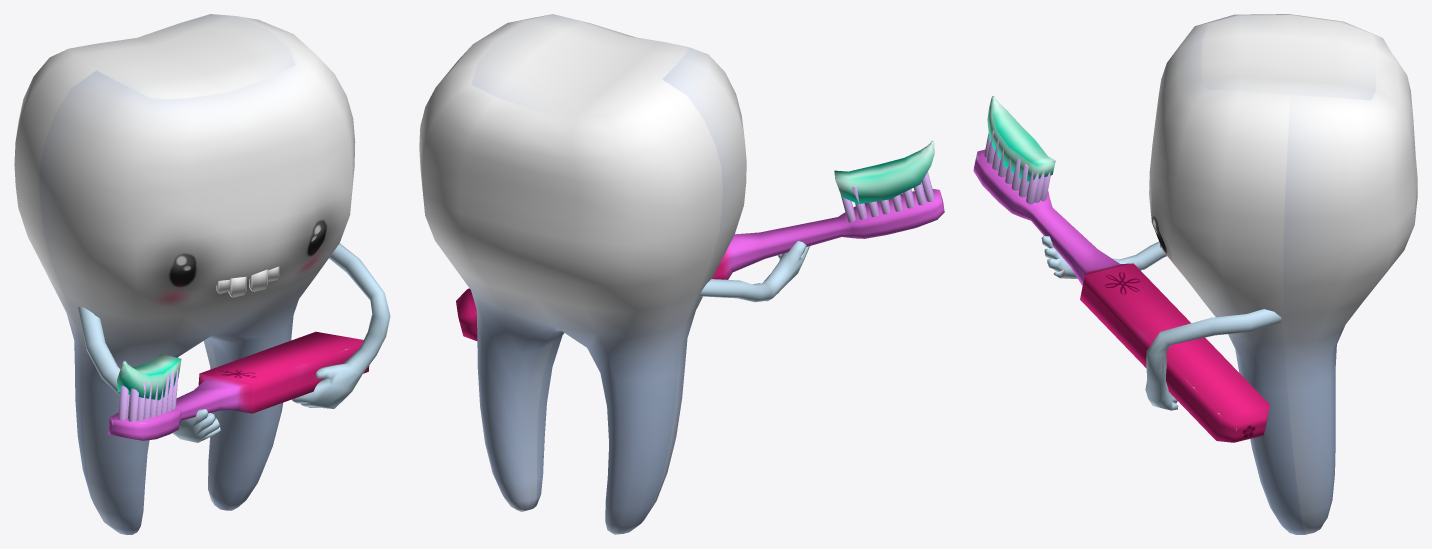
The model's file is tooth.glb.
The picture shows the model from 3 angles, left to right: view 1: azimuth 30°, elevation 25°; view 2: azimuth 150°, elevation 25°; view 3: azimuth 270°, elevation 25°; orthographic projection. The views are drawn at different scales.
Visible parts, largest first — view 1: Object_2; view 2: Object_2; view 3: Object_2.
Part boxes in pixels (<box>): Object_2: <box>14,14,390,534</box>; Object_2: <box>419,14,944,534</box>; Object_2: <box>973,14,1417,534</box>.
Size of the model in its own units: 3.74 by 4.47 by 3.93.
1 material, 1 textured.
